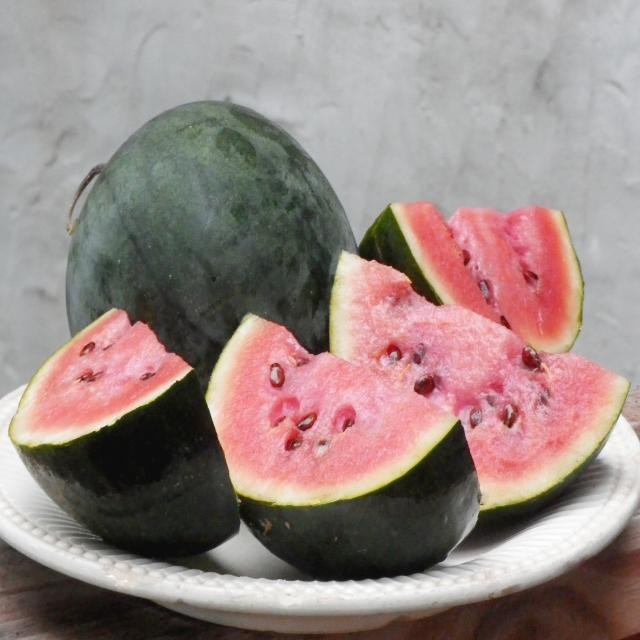Watermelon: (66, 101, 356, 389), (330, 252, 629, 513), (206, 315, 480, 579), (9, 308, 240, 554), (360, 201, 584, 353)
